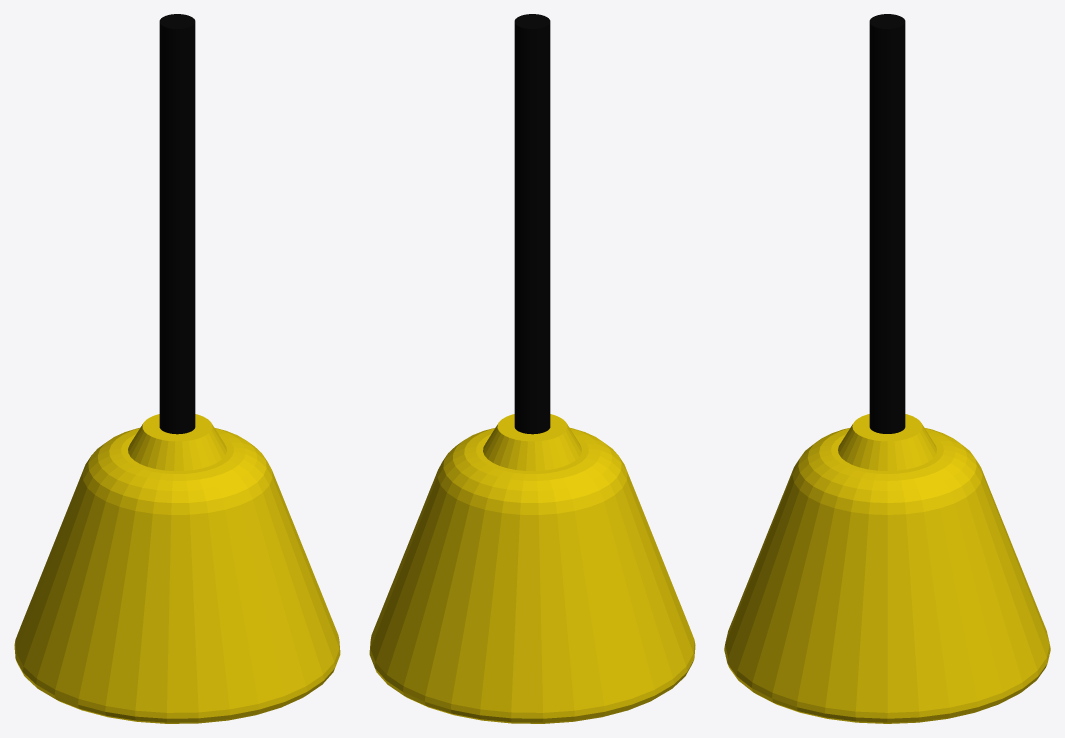
File: lamp_001.fbx
3 renders of one model, left to right at view 1: azimuth 30°, elevation 25°; view 2: azimuth 150°, elevation 25°; view 3: azimuth 270°, elevation 25°, orthographic.
Visible parts, largest first — view 1: lamp.001; view 2: lamp.001; view 3: lamp.001.
Part boxes in pixels (x1=…): lamp.001: x1=14, y1=14, x2=340, y2=723; lamp.001: x1=369, y1=14, x2=695, y2=723; lamp.001: x1=724, y1=14, x2=1050, y2=723.
Bounding box in the file's own units: 137 × 296 × 137.
